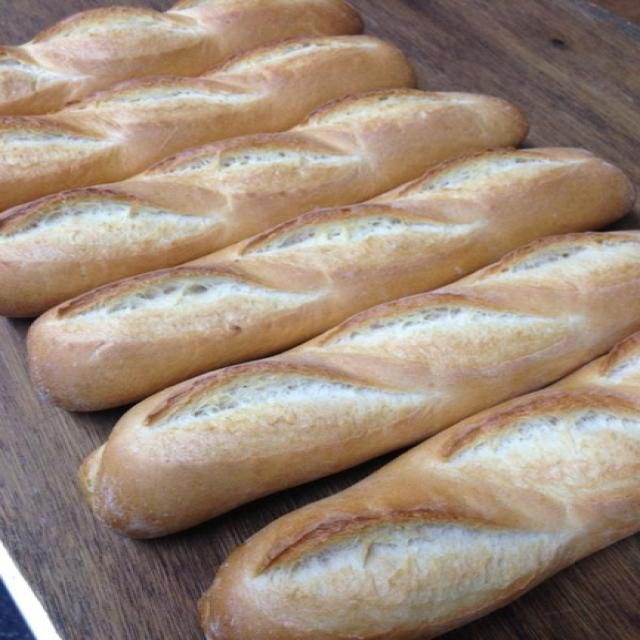汤锅炖物: (332, 5, 550, 120)
蔬菜料理: (477, 122, 640, 238)
